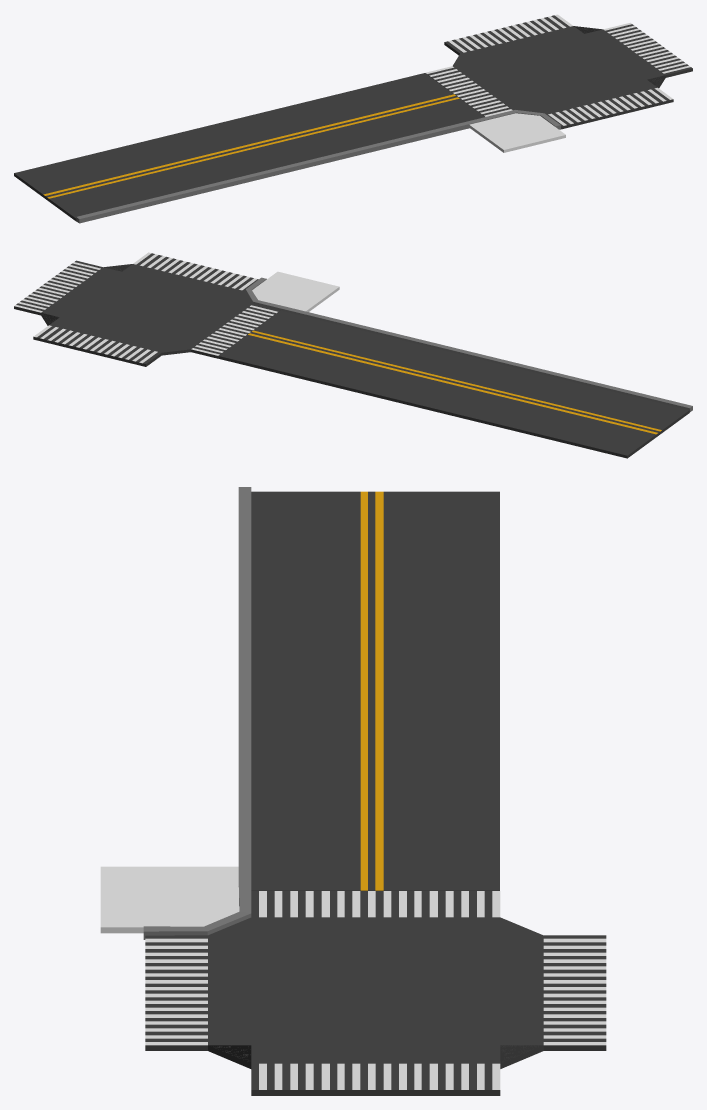
File: interseccao.fbx
3 views of the same model, one above another, from view 1: azimuth 30°, elevation 25°; view 2: azimuth 150°, elevation 25°; view 3: azimuth 270°, elevation 25° (orthographic). The views are drawn at different scales.
Visible parts, largest first — view 1: Rua reta, intersecssao, reta, encaixe intersecção, curva; view 2: Rua reta, intersecssao, reta, encaixe intersecção, curva; view 3: Rua reta, intersecssao, encaixe intersecção, reta, curva.
Boxes of the visible parts, x1,y1,x2,y2 form: Rua reta: [14, 73, 484, 221]; intersecssao: [425, 14, 692, 129]; reta: [76, 116, 490, 223]; encaixe intersecção: [469, 113, 565, 152]; curva: [487, 110, 560, 129]; Rua reta: [218, 310, 689, 458]; intersecssao: [14, 252, 280, 366]; reta: [281, 306, 692, 412]; encaixe intersecção: [252, 271, 339, 311]; curva: [245, 277, 283, 310]; Rua reta: [251, 491, 499, 890]; intersecssao: [145, 891, 606, 1095]; encaixe intersecção: [100, 866, 238, 933]; reta: [238, 487, 251, 886]; curva: [143, 886, 251, 939].
Size of the model in its own units: 45021 by 343 by 16054.
